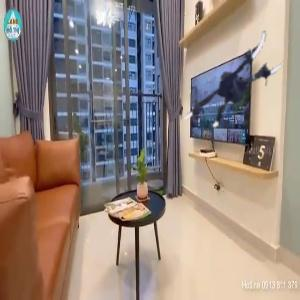drone: (168, 17, 288, 137)
